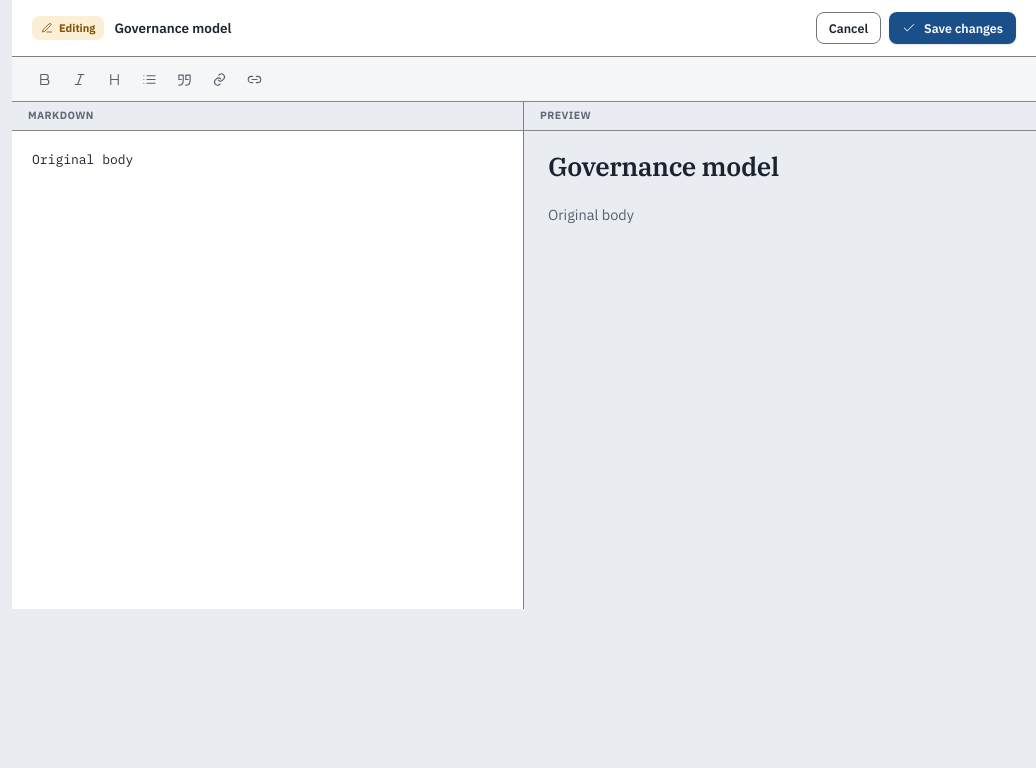
Test: WikiEditor (P15e) › surfaces a 409 (archived between load and save) inline
Click the button "Save changes": (953, 28) [889,12,1016,44]
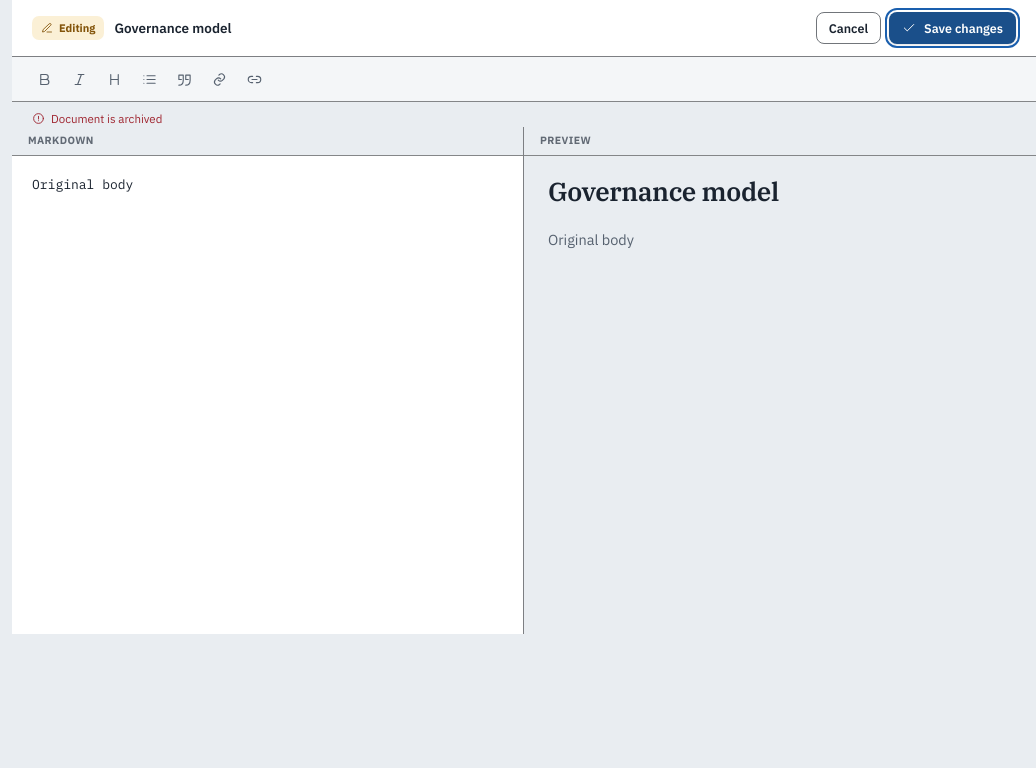
expect the message reads "Document is archived": met, box [51,111,162,126]
